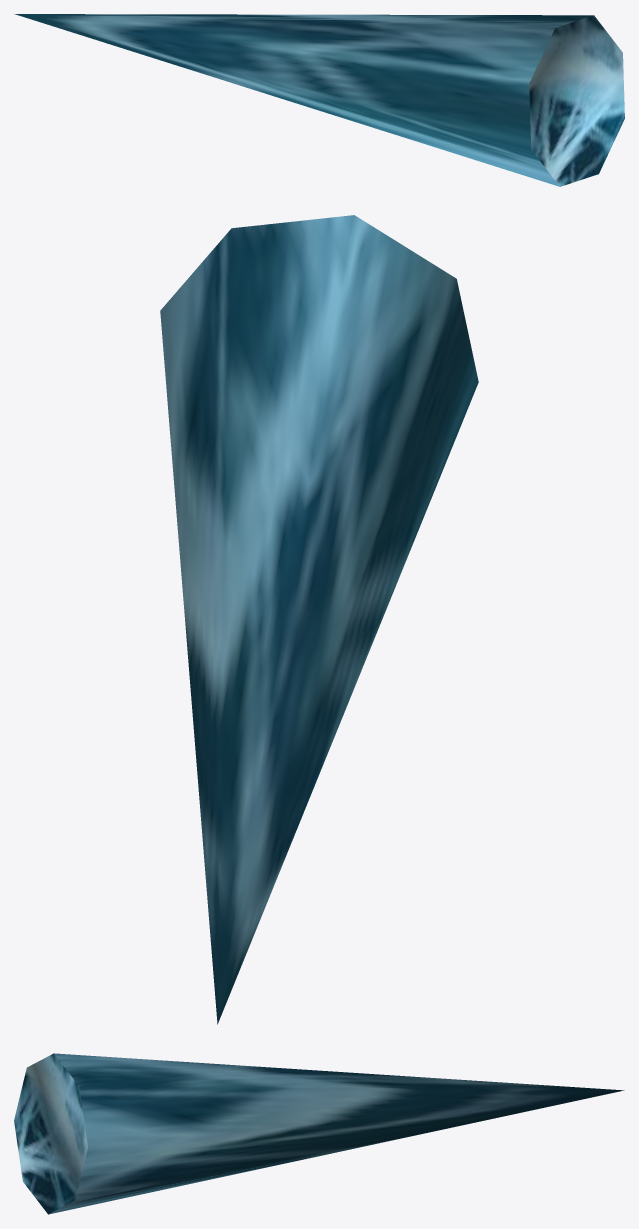
The model's file is iceonfloor3.glb.
3 views of the same model, one above another, from view 1: azimuth 30°, elevation 25°; view 2: azimuth 150°, elevation 25°; view 3: azimuth 270°, elevation 25° (orthographic). The views are drawn at different scales.
Parts seen in each view (by area): view 1: ICEballRACK.004; view 2: ICEballRACK.004; view 3: ICEballRACK.004.
Part boxes in pixels (x1,y1,x2,y2): ICEballRACK.004: (14, 14, 624, 186); ICEballRACK.004: (160, 215, 478, 1024); ICEballRACK.004: (14, 1053, 624, 1214).
Size of the model in its own units: 1.52 by 0.698 by 2.7.
1 material, 1 textured.
